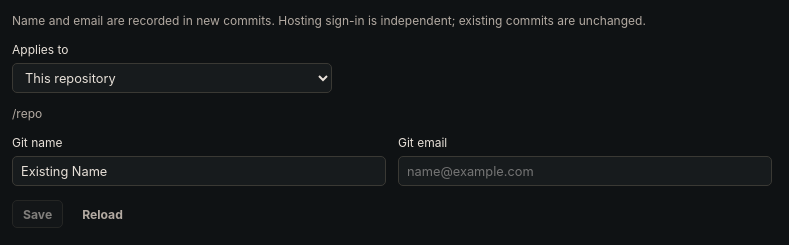
Test case: shared Git identity form › switches scope without writing and does not mix local and global configuration
Select "Globally on this computer" in the dropdown labelled "Applies to" at (172, 78), box [12,63,332,93]
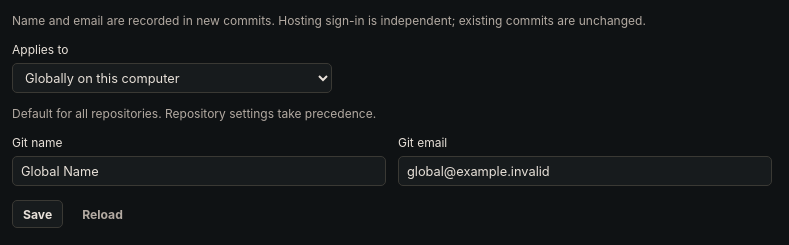
Check: the text "Repository settings take precedence" is shown, box [12,106,376,121]
